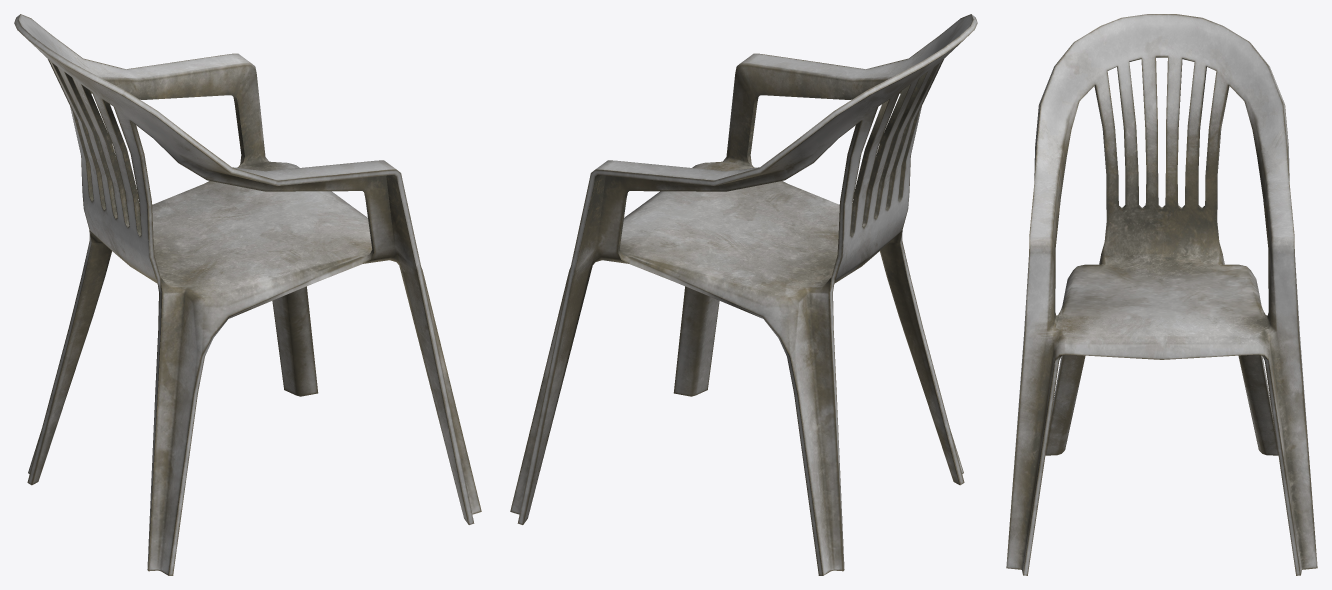
File: plastic_chair.glb
The picture shows the model from 3 angles, left to right: view 1: azimuth 30°, elevation 25°; view 2: azimuth 150°, elevation 25°; view 3: azimuth 270°, elevation 25°; orthographic projection. The views are drawn at different scales.
Parts seen in each view (by area): view 1: SM_Plastic_Chair_01_78_LOD0; view 2: SM_Plastic_Chair_01_78_LOD0; view 3: SM_Plastic_Chair_01_78_LOD0.
Boxes of the visible parts, <box> form: SM_Plastic_Chair_01_78_LOD0: <box>14,14,481,575</box>; SM_Plastic_Chair_01_78_LOD0: <box>510,14,977,575</box>; SM_Plastic_Chair_01_78_LOD0: <box>1006,14,1317,575</box>.
Size of the model in its own units: 0.6989 by 0.9186 by 0.6224.
Materials: 1 (1 with a texture image).
